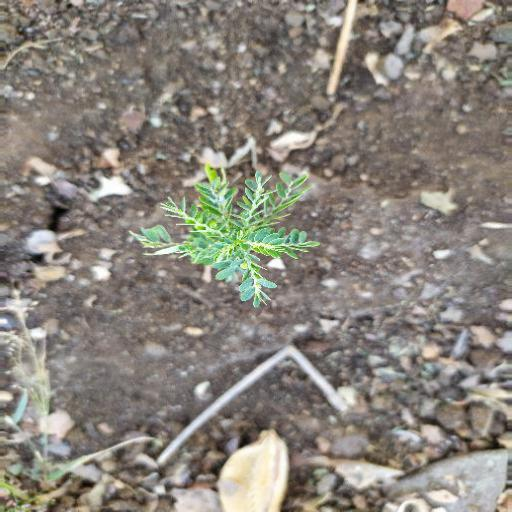weed: (136, 161, 338, 313)
